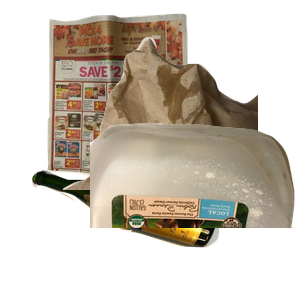glass: (29, 167, 241, 300)
paper: (44, 11, 229, 181)
plastic: (90, 120, 300, 300)
trash: (60, 35, 300, 215)
